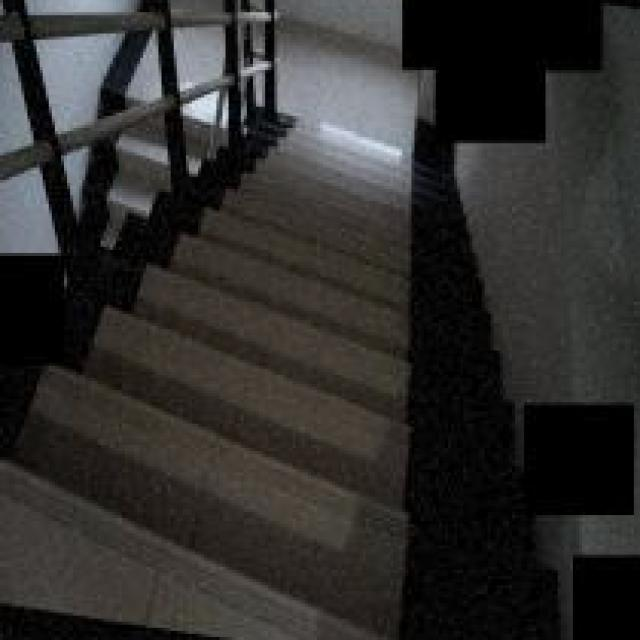downstair: (187, 184, 449, 626)
